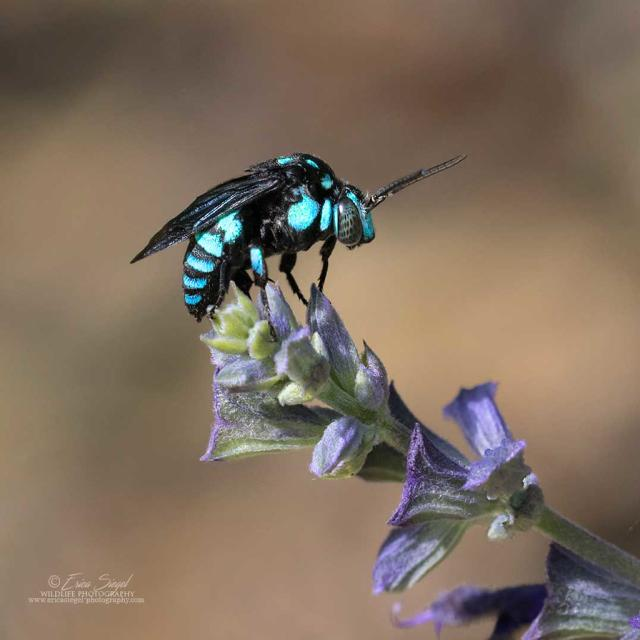Thyreus: (127, 137, 469, 328)
